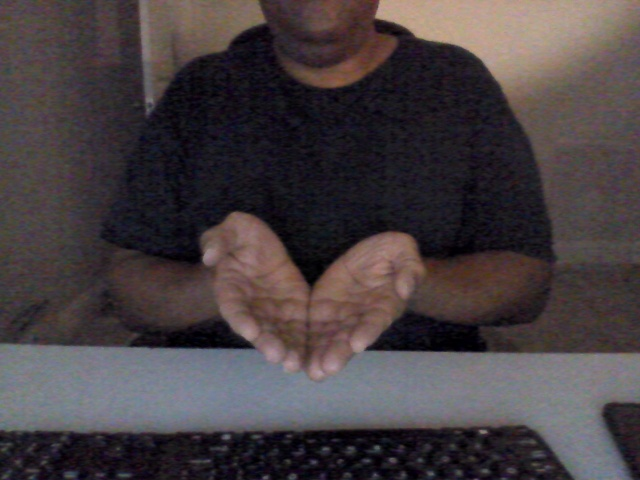book: (192, 207, 436, 390)
